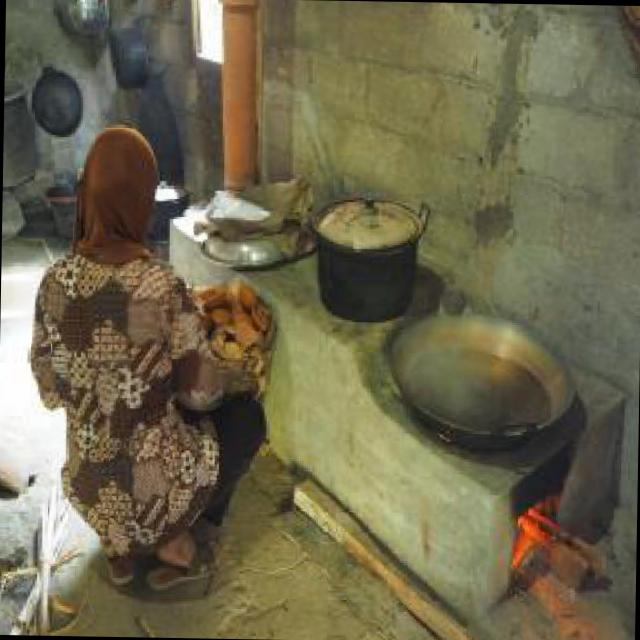fire: (510, 493, 545, 563)
